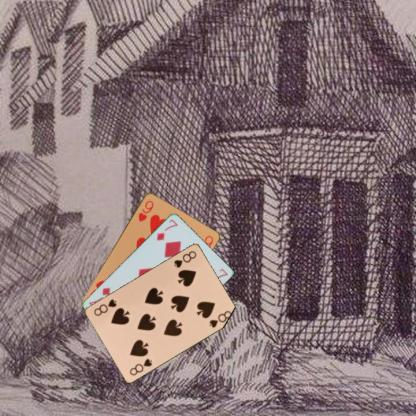7d: (154, 216, 179, 242)
8s: (127, 355, 154, 377), (171, 248, 198, 269)
9h: (136, 198, 155, 223)
